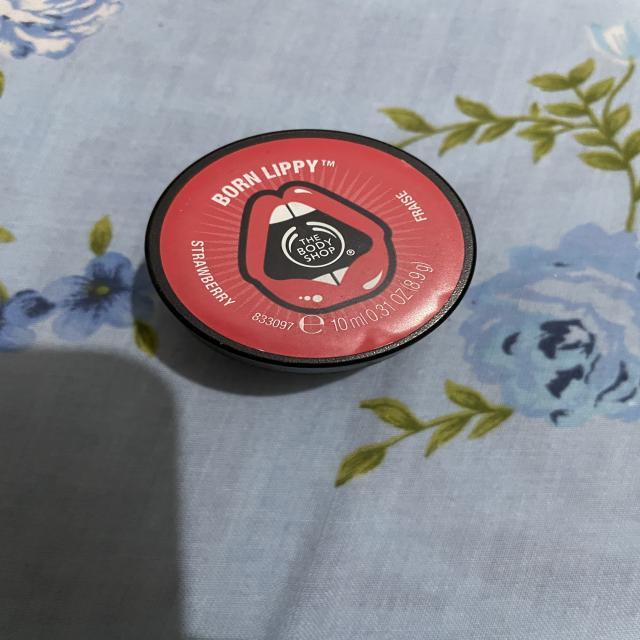Tint: (96, 104, 487, 402)
